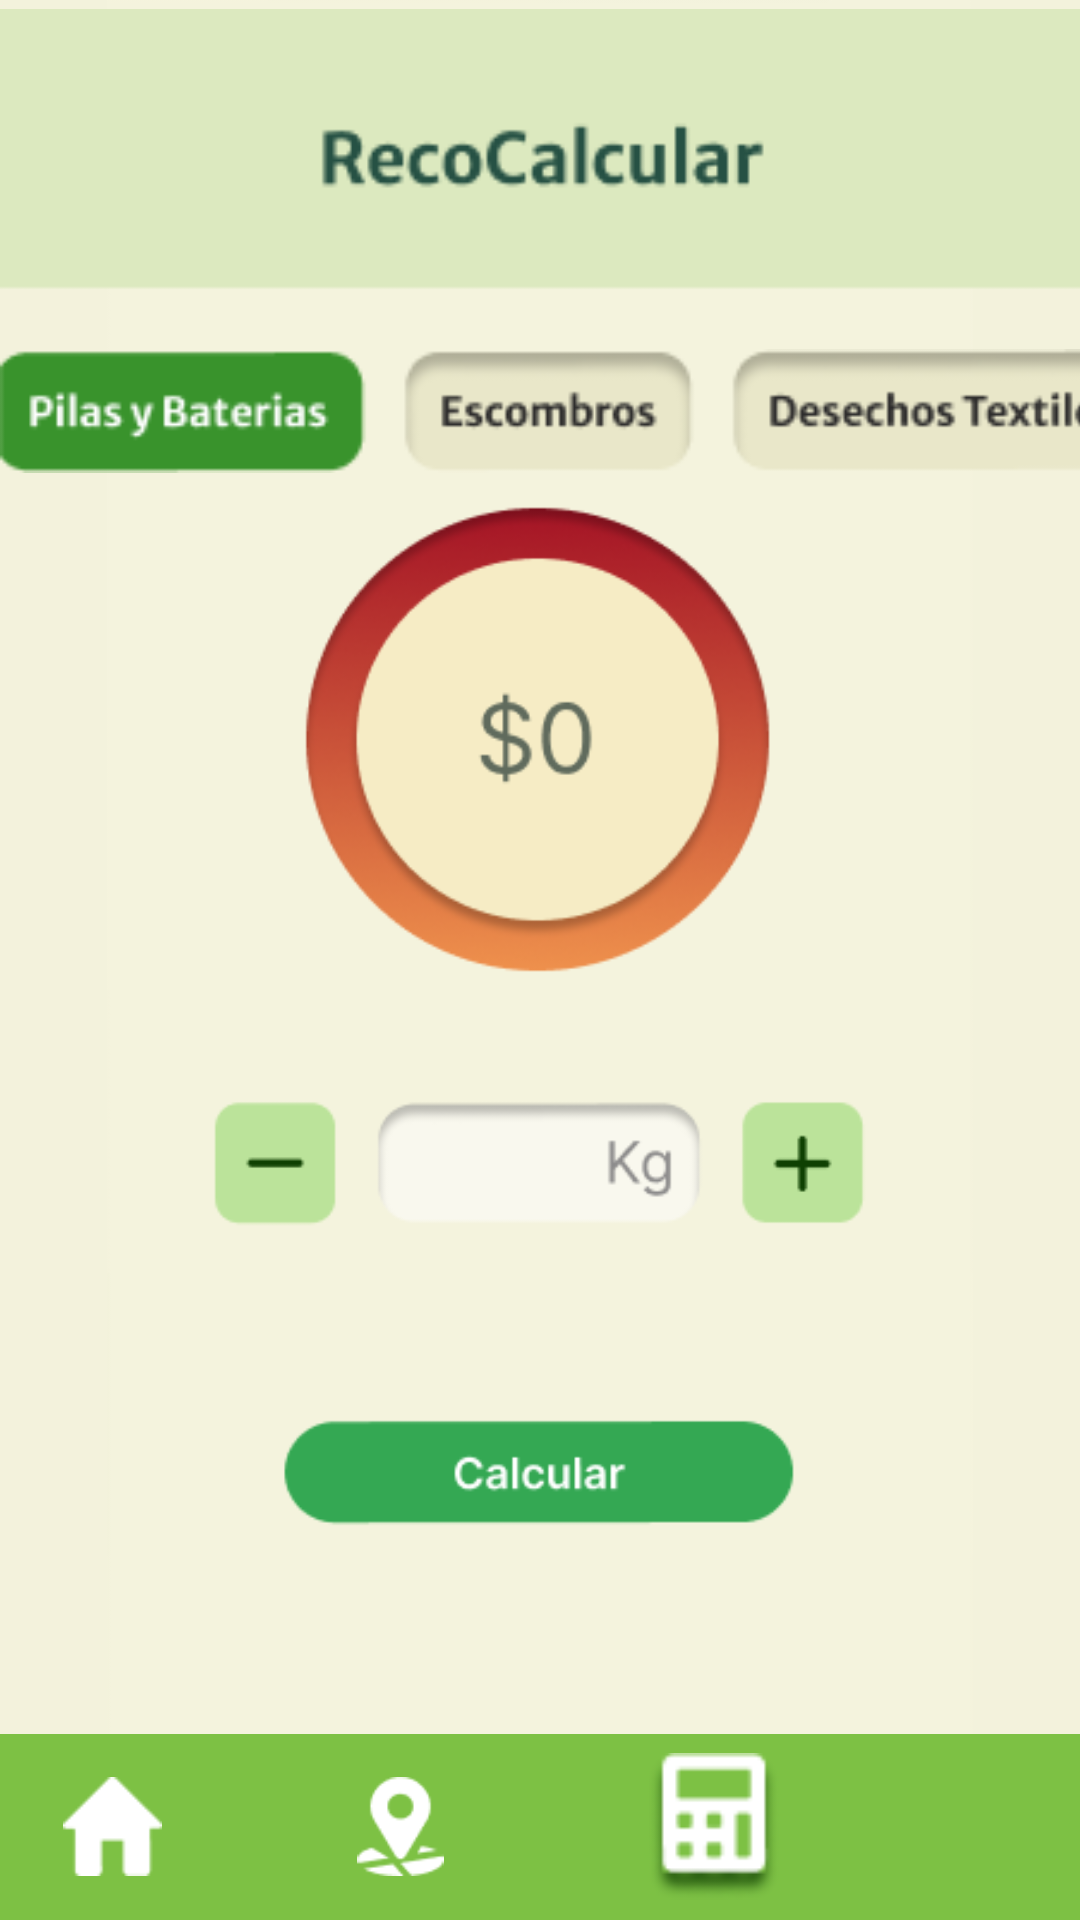

Named icons in this screenshot (1080px×1920px) and their bounding boxes, (x1,y1,x2,y2):
calculator: (658,1753,770,1890)
